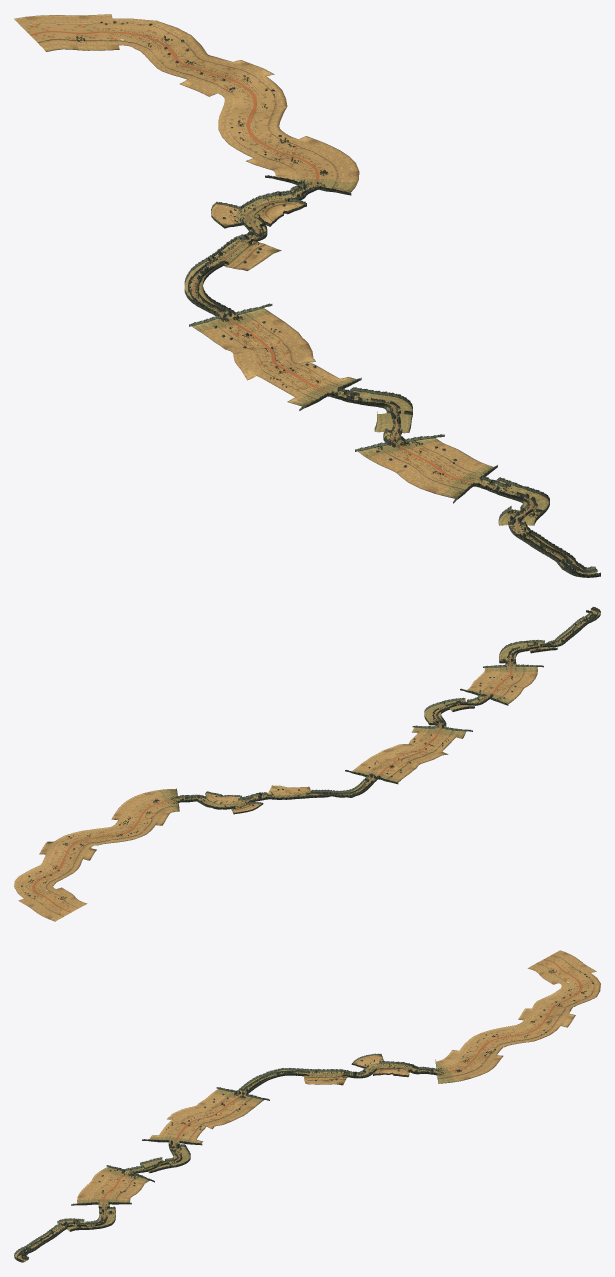
The model's file is kenya_stage4_visual.glb.
3 views of the same model, one above another, from view 1: azimuth 30°, elevation 25°; view 2: azimuth 150°, elevation 25°; view 3: azimuth 330°, elevation 25° (orthographic). The views are drawn at different scales.
Visible parts, largest first — view 1: Track_Road_And_Terrain, Foliage_And_Vegetation; view 2: Track_Road_And_Terrain, Foliage_And_Vegetation; view 3: Track_Road_And_Terrain, Foliage_And_Vegetation.
Boxes of the visible parts, bbox=[...] form: Track_Road_And_Terrain: bbox=[14, 14, 600, 577]; Foliage_And_Vegetation: bbox=[75, 21, 580, 571]; Track_Road_And_Terrain: bbox=[14, 607, 600, 921]; Foliage_And_Vegetation: bbox=[21, 613, 595, 900]; Track_Road_And_Terrain: bbox=[14, 950, 600, 1262]; Foliage_And_Vegetation: bbox=[19, 969, 593, 1255].
Size of the model in its own units: 1278 by 46.56 by 4813.
Materials: 38 (38 with a texture image).
